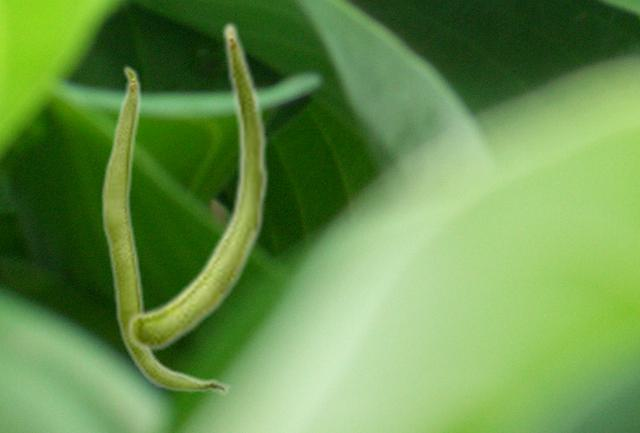french_bean: (125, 20, 269, 351), (99, 64, 230, 395)
